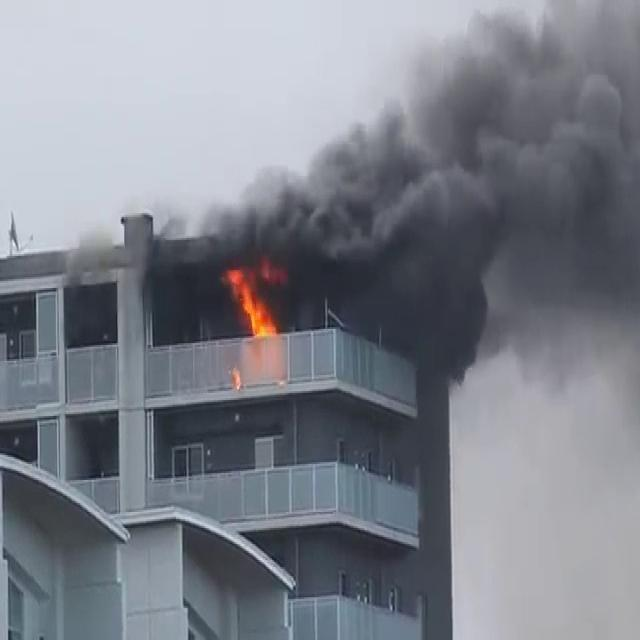Fire: (222, 262, 282, 344)
Smoke: (190, 1, 640, 388)
